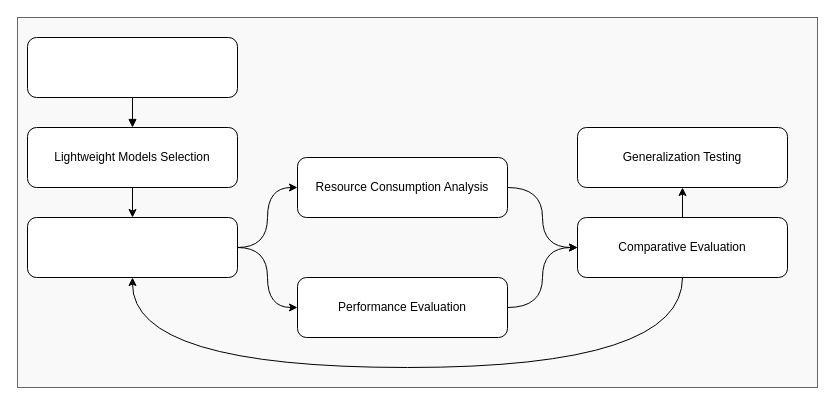
The diagram is 835 pixels wide and 405 high, and some of its shapes have lost their labels. Here are the shapes that lost their labels. From the top down, the centre of each, then its label:
At point (132, 67): "Dataset Collection and Preperation".
At point (132, 247): "Model Finetuning".
